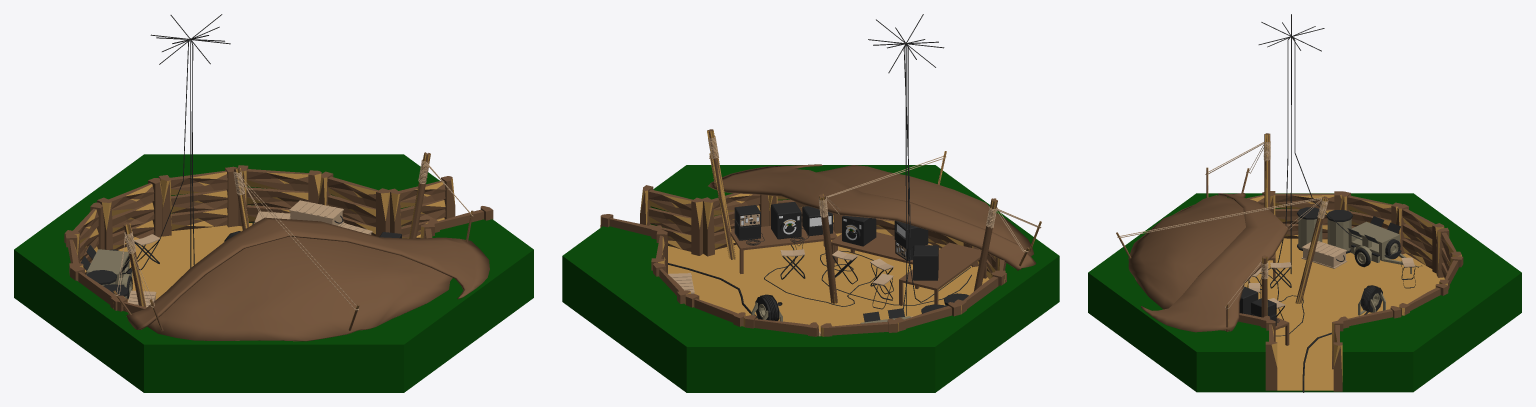
The model's file is TroopTile.fbx.
The picture shows the model from 3 angles, left to right: view 1: azimuth 30°, elevation 25°; view 2: azimuth 150°, elevation 25°; view 3: azimuth 270°, elevation 25°; orthographic projection. The views are drawn at different scales.
Visible parts, largest first — view 1: TroopLandscape, Tent, BunkerFence.014, BunkerFence.004, BunkerFence.013, BunkerFence.008, BunkerFence.002, Antennae, BunkerFence.001, Generator, Crate.001, BunkerFence.003 (+1 smaller); view 2: TroopLandscape, Tent, TablesAndEquipment, BunkerFence.006, BunkerFence.007, Antennae, Barrel.001, BunkerFence.013, BunkerFence.001, BunkerFence.009, BunkerFence.014, BunkerFence.003 (+4 smaller); view 3: TroopLandscape, Tent, Generator, BunkerFence.001, BunkerFence.003, Antennae, BunkerFence.009, TablesAndEquipment, Barrel.002, BunkerFence.006, Crate.002, Barrel.001 (+5 smaller).
Part boxes in pixels (left/top/right/bottom): TroopLandscape: left=14, top=154, right=533, bottom=392; Tent: left=113, top=152, right=489, bottom=341; BunkerFence.014: left=158, top=166, right=238, bottom=236; BunkerFence.004: left=238, top=165, right=321, bottom=226; BunkerFence.013: left=97, top=178, right=162, bottom=249; BunkerFence.008: left=318, top=171, right=389, bottom=236; BunkerFence.002: left=388, top=176, right=455, bottom=238; Antennae: left=120, top=14, right=230, bottom=274; BunkerFence.001: left=64, top=202, right=104, bottom=274; Generator: left=81, top=245, right=132, bottom=299; Crate.001: left=289, top=200, right=344, bottom=226; BunkerFence.003: left=70, top=266, right=124, bottom=310; TroopLandscape: left=562, top=165, right=1059, bottom=392; Tent: left=707, top=129, right=1041, bottom=303; TablesAndEquipment: left=730, top=202, right=987, bottom=306; BunkerFence.006: left=640, top=185, right=703, bottom=255; BunkerFence.007: left=702, top=193, right=769, bottom=256; Antennae: left=868, top=14, right=970, bottom=315; Barrel.001: left=668, top=263, right=782, bottom=321; BunkerFence.013: left=743, top=315, right=819, bottom=336; BunkerFence.001: left=820, top=318, right=897, bottom=336; BunkerFence.009: left=894, top=302, right=961, bottom=331; BunkerFence.014: left=685, top=294, right=745, bottom=326; BunkerFence.003: left=954, top=271, right=1006, bottom=314; TroopLandscape: left=1088, top=193, right=1521, bottom=392; Tent: left=1116, top=133, right=1328, bottom=332; Generator: left=1347, top=216, right=1421, bottom=273; BunkerFence.001: left=1395, top=204, right=1444, bottom=273; BunkerFence.003: left=1270, top=191, right=1343, bottom=239; Antennae: left=1258, top=14, right=1362, bottom=273; BunkerFence.009: left=1340, top=191, right=1402, bottom=229; TablesAndEquipment: left=1239, top=253, right=1304, bottom=345; Barrel.002: left=1326, top=210, right=1352, bottom=253; BunkerFence.006: left=1265, top=319, right=1277, bottom=390; Crate.002: left=1301, top=241, right=1347, bottom=268; Barrel.001: left=1302, top=285, right=1385, bottom=392.
Bounding box in the file's own units: 878 × 659 × 1000.
